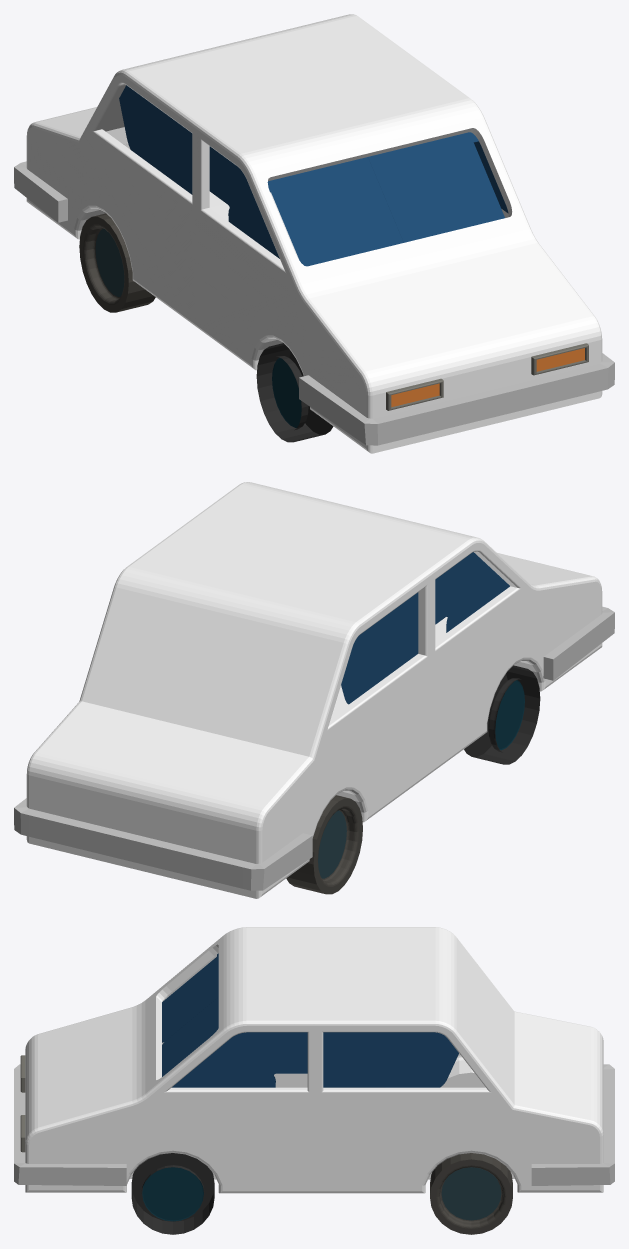
Rendered from car.fbx.
3 views of the same model, one above another, from view 1: azimuth 30°, elevation 25°; view 2: azimuth 150°, elevation 25°; view 3: azimuth 270°, elevation 25° (orthographic). The views are drawn at different scales.
Visible parts, largest first — view 1: Circle, Circle.003, Circle.002, Circle.001, Cube; view 2: Circle, Circle.003, Circle.002, Circle.001; view 3: Circle, Circle.003, Circle.001, Circle.002, Cube.
Part boxes in pixels (x1=…): Circle: x1=26, y1=14, x2=602, y2=453; Circle.003: x1=14, y1=143, x2=614, y2=445; Circle.002: x1=79, y1=213, x2=155, y2=312; Circle.001: x1=256, y1=343, x2=333, y2=442; Cube: x1=386, y1=343, x2=588, y2=410; Circle: x1=26, y1=482, x2=602, y2=898; Circle.003: x1=14, y1=606, x2=614, y2=890; Circle.002: x1=286, y1=795, x2=362, y2=894; Circle.001: x1=464, y1=665, x2=540, y2=764; Circle: x1=25, y1=927, x2=603, y2=1193; Circle.003: x1=14, y1=1064, x2=614, y2=1185; Circle.001: x1=131, y1=1153, x2=214, y2=1234; Circle.002: x1=430, y1=1153, x2=512, y2=1234; Cube: x1=20, y1=1055, x2=25, y2=1152.
Size of the model in its own units: 560 by 531 by 1360.
